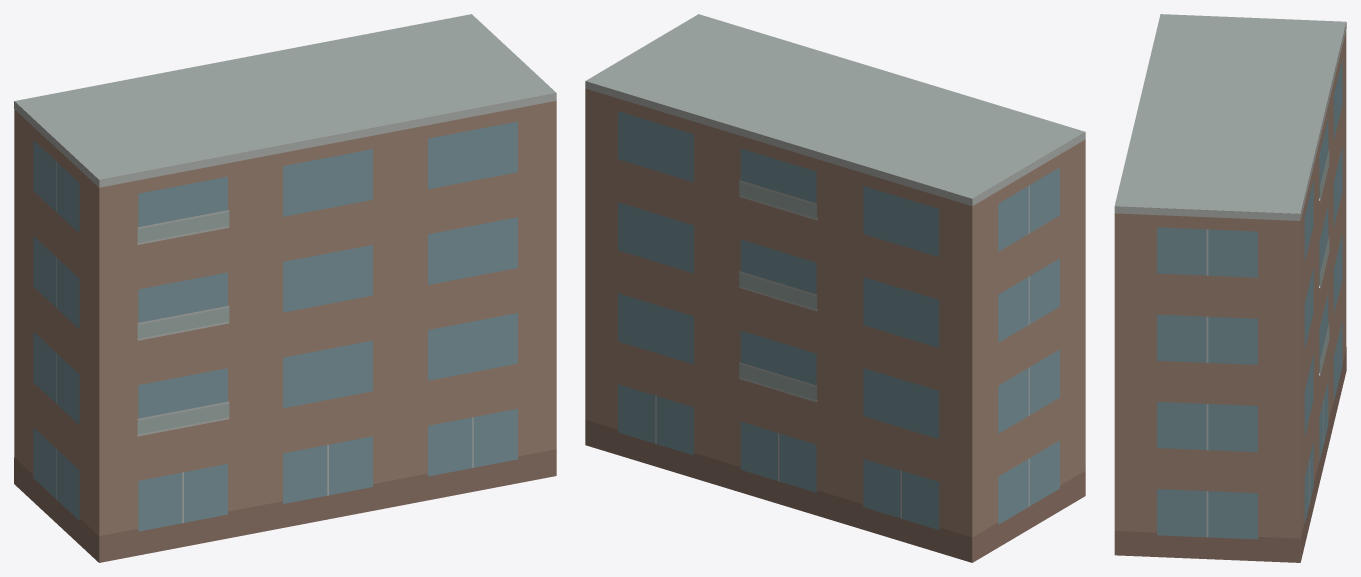
File: survey-upis-32591907.glb
The picture shows the model from 3 angles, left to right: view 1: azimuth 30°, elevation 25°; view 2: azimuth 150°, elevation 25°; view 3: azimuth 270°, elevation 25°; orthographic projection. The views are drawn at different scales.
Visible parts, largest first — view 1: survey-upis-32591907.tmp; view 2: survey-upis-32591907.tmp; view 3: survey-upis-32591907.tmp.
Boxes of the visible parts, box(x1,y1,x2,y2) form: survey-upis-32591907.tmp: box(14, 14, 556, 562); survey-upis-32591907.tmp: box(585, 14, 1085, 562); survey-upis-32591907.tmp: box(1114, 14, 1346, 562).
Size of the model in its own units: 14.63 by 11.9 by 7.18.
